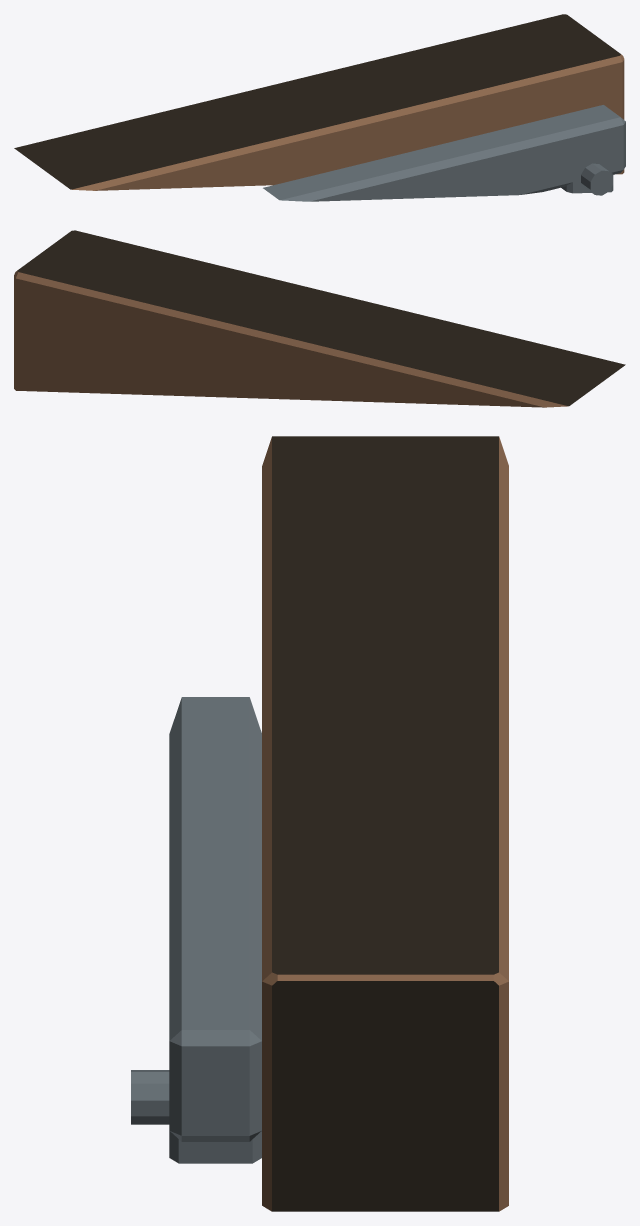
Rendered from SM_DoorShard_03_26.fbx.
3 views of the same model, one above another, from view 1: azimuth 30°, elevation 25°; view 2: azimuth 150°, elevation 25°; view 3: azimuth 270°, elevation 25° (orthographic). The views are drawn at different scales.
Visible parts, largest first — view 1: SM_DoorShard_03_26; view 2: SM_DoorShard_03_26; view 3: SM_DoorShard_03_26.
Part boxes in pixels (x1=…): SM_DoorShard_03_26: x1=14, y1=14, x2=625, y2=201; SM_DoorShard_03_26: x1=14, y1=230, x2=625, y2=407; SM_DoorShard_03_26: x1=131, y1=436, x2=508, y2=1211.
Bounding box in the file's own units: 82.82 × 24.5 × 16.8.
